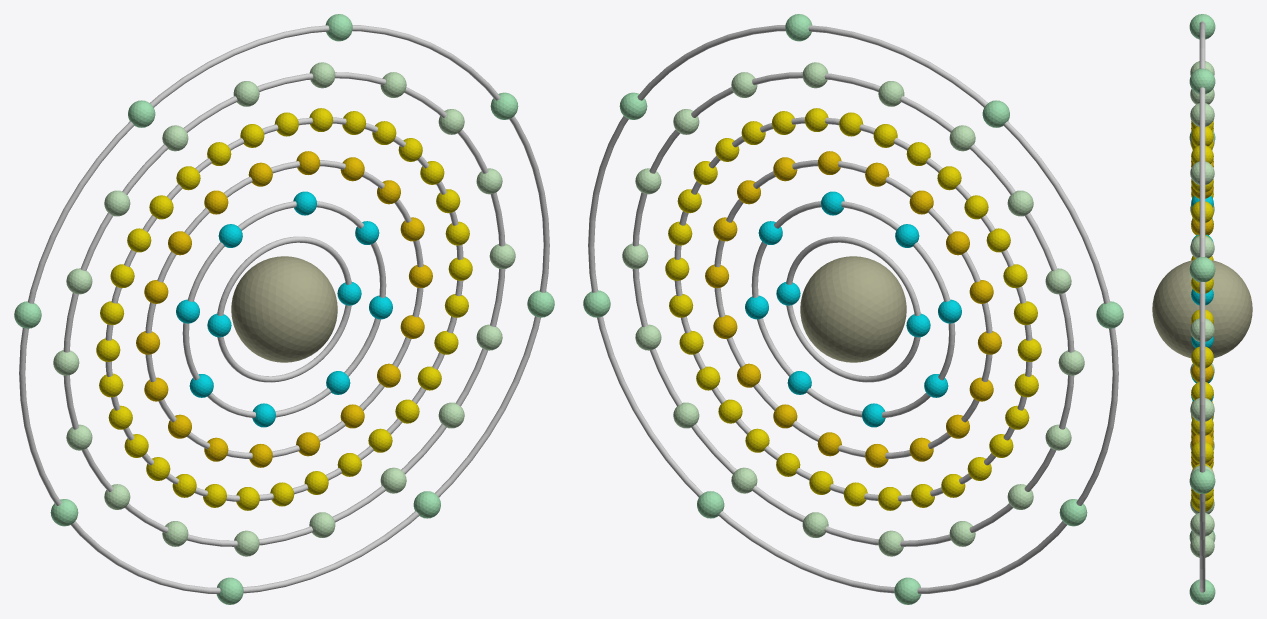
3 renders of one model, left to right at view 1: azimuth 30°, elevation 25°; view 2: azimuth 150°, elevation 25°; view 3: azimuth 270°, elevation 25°, orthographic. The views are drawn at different scales.
Visible parts, largest first — view 1: world; view 2: world; view 3: world.
Part boxes in pixels (bbox=[...]): world: bbox=[14, 14, 554, 604]; world: bbox=[583, 14, 1123, 604]; world: bbox=[1152, 14, 1252, 604].
Size of the model in its own units: 2.56 by 2.56 by 0.44.
